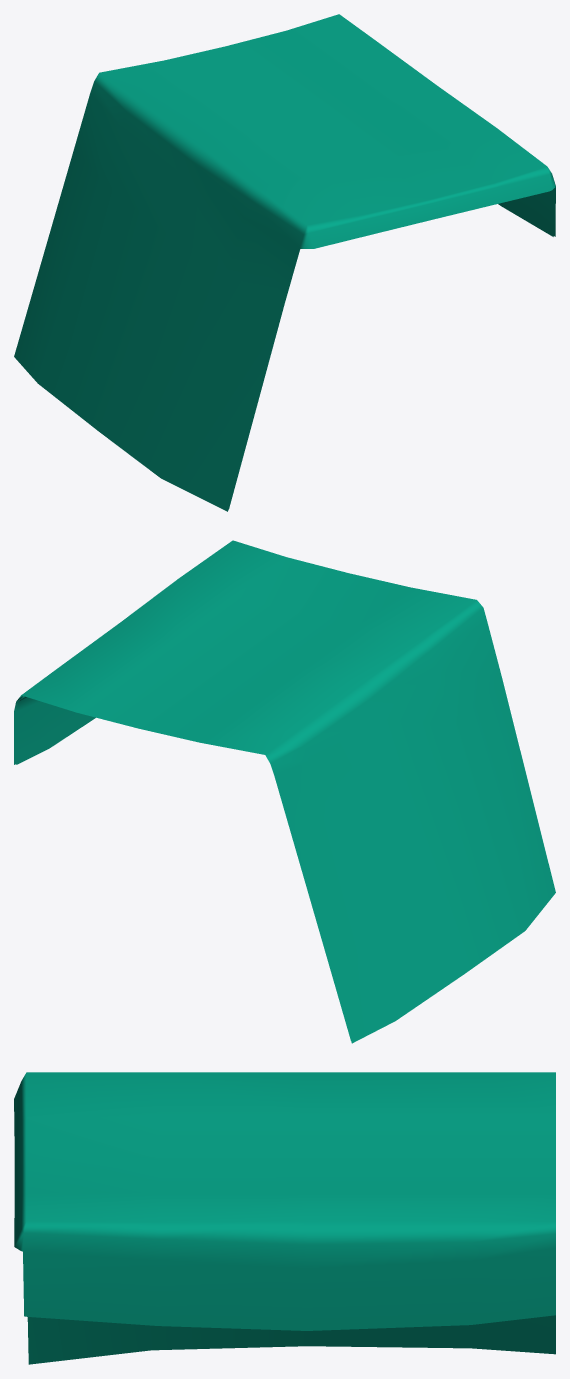
File: Camping_Tent_01_Lod1.fbx
3 renders of one model, top to bottom at view 1: azimuth 30°, elevation 25°; view 2: azimuth 150°, elevation 25°; view 3: azimuth 270°, elevation 25°, orthographic. The views are drawn at different scales.
Visible parts, largest first — view 1: Camping_Tent_01_Lod1; view 2: Camping_Tent_01_Lod1; view 3: Camping_Tent_01_Lod1.
Part boxes in pixels (x1,y1,x2,y2): Camping_Tent_01_Lod1: (14,14,555,511); Camping_Tent_01_Lod1: (14,540,555,1043); Camping_Tent_01_Lod1: (14,1072,555,1364).
Bounding box in the file's own units: 297 × 221 × 318.
